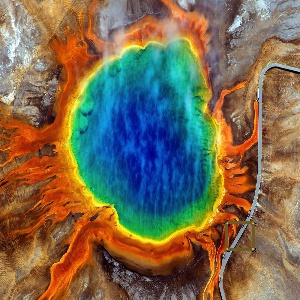square: (223, 220, 258, 254)
